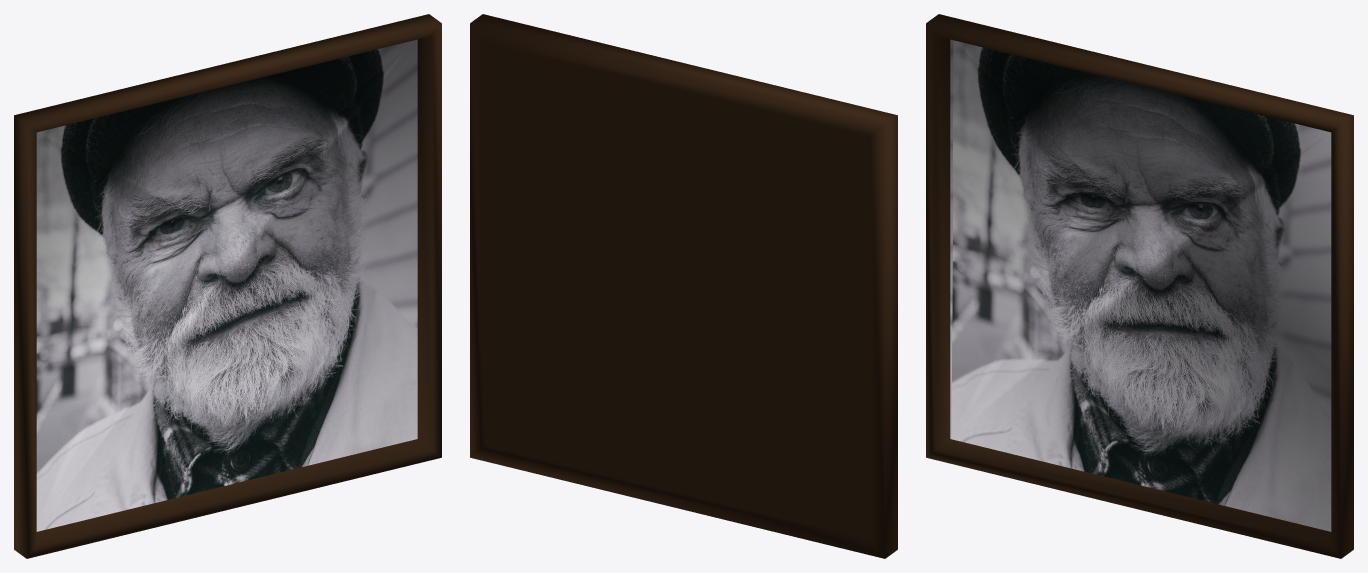
The model's file is painting.glb.
3 renders of one model, left to right at view 1: azimuth 30°, elevation 25°; view 2: azimuth 150°, elevation 25°; view 3: azimuth 330°, elevation 25°, orthographic.
Visible parts, largest first — view 1: Cube; view 2: Cube; view 3: Cube.
Boxes of the visible parts, x1=… form: Cube: x1=14, y1=14, x2=441, y2=558; Cube: x1=470, y1=14, x2=897, y2=558; Cube: x1=926, y1=14, x2=1353, y2=558.
Bounding box in the file's own units: 2 × 2 × 0.106.
Materials: 2 (1 with a texture image).
